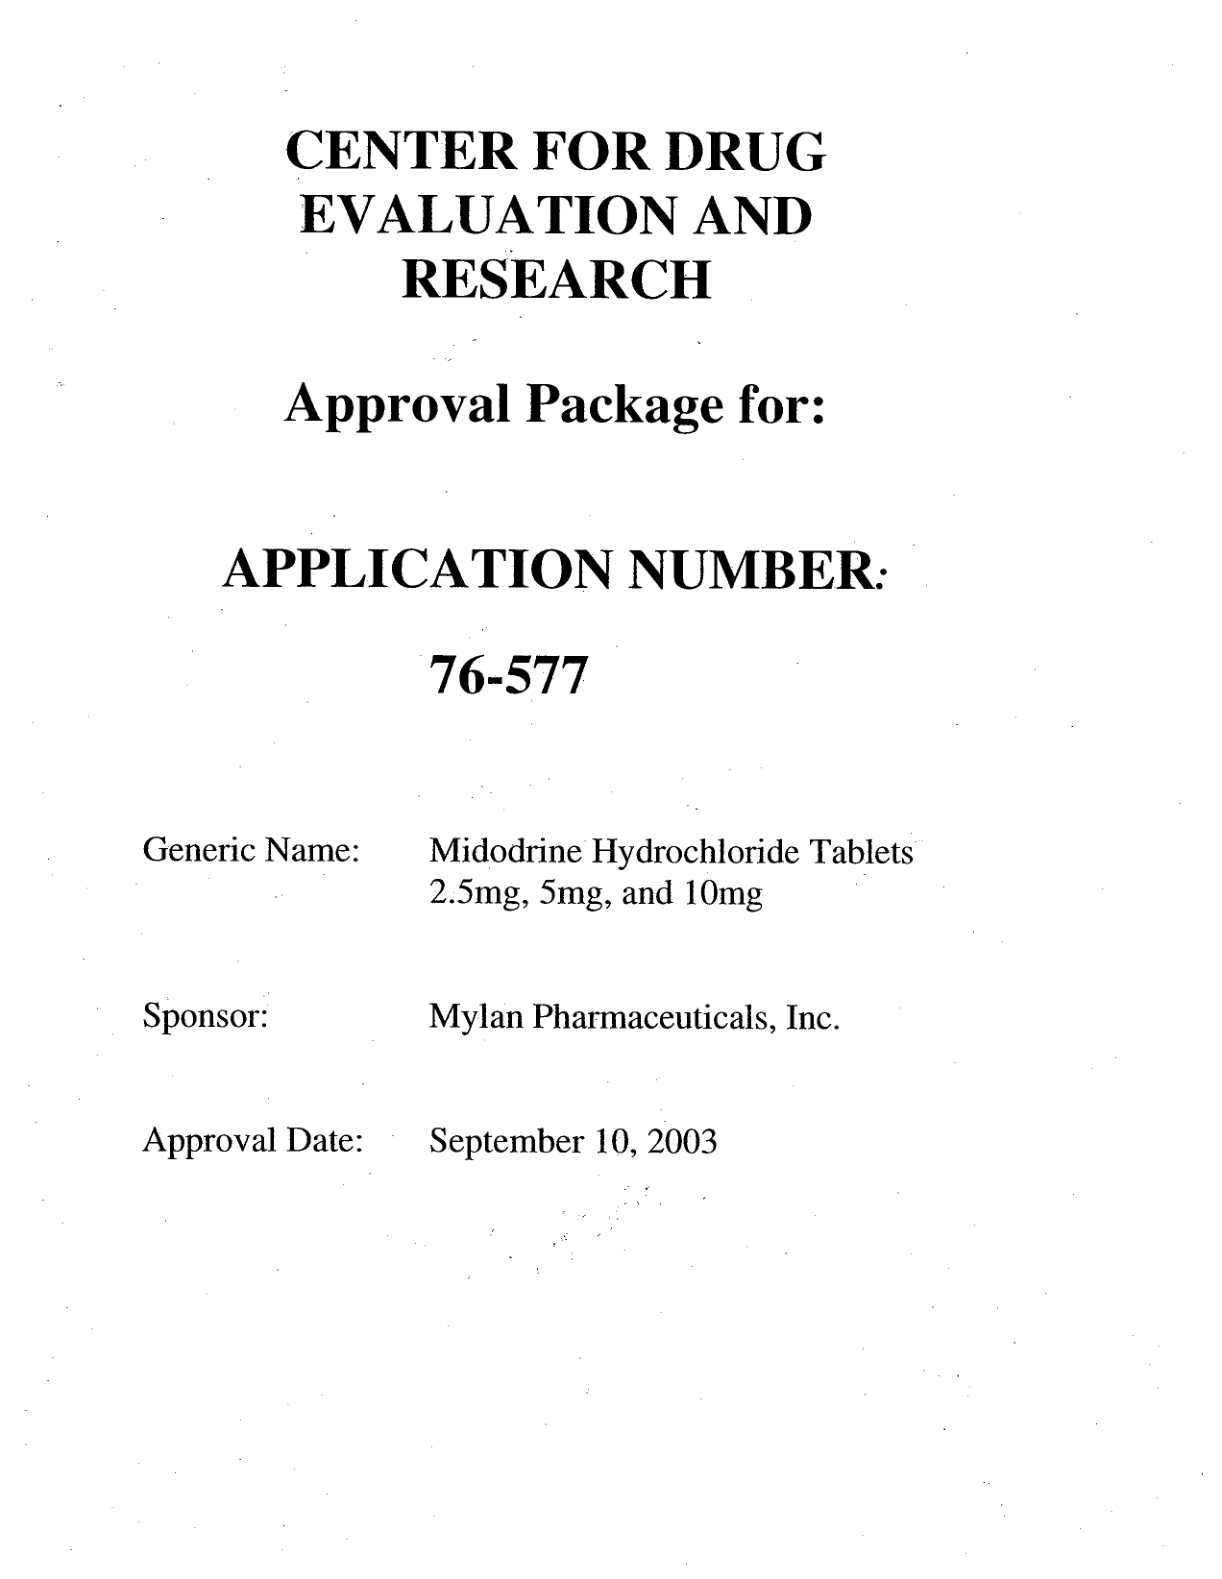nolines: (141, 829, 917, 1161)
